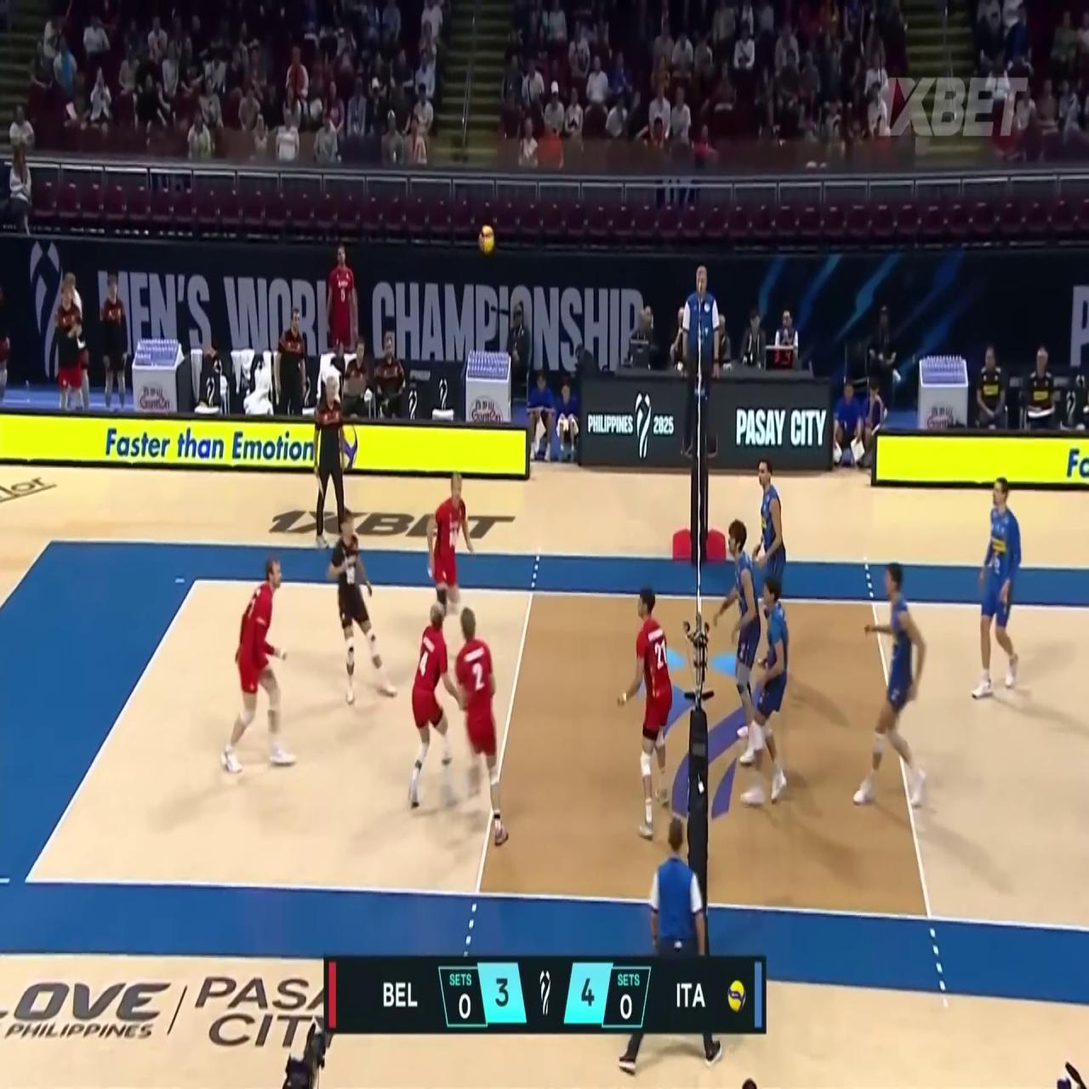ball: (478, 225, 495, 254)
